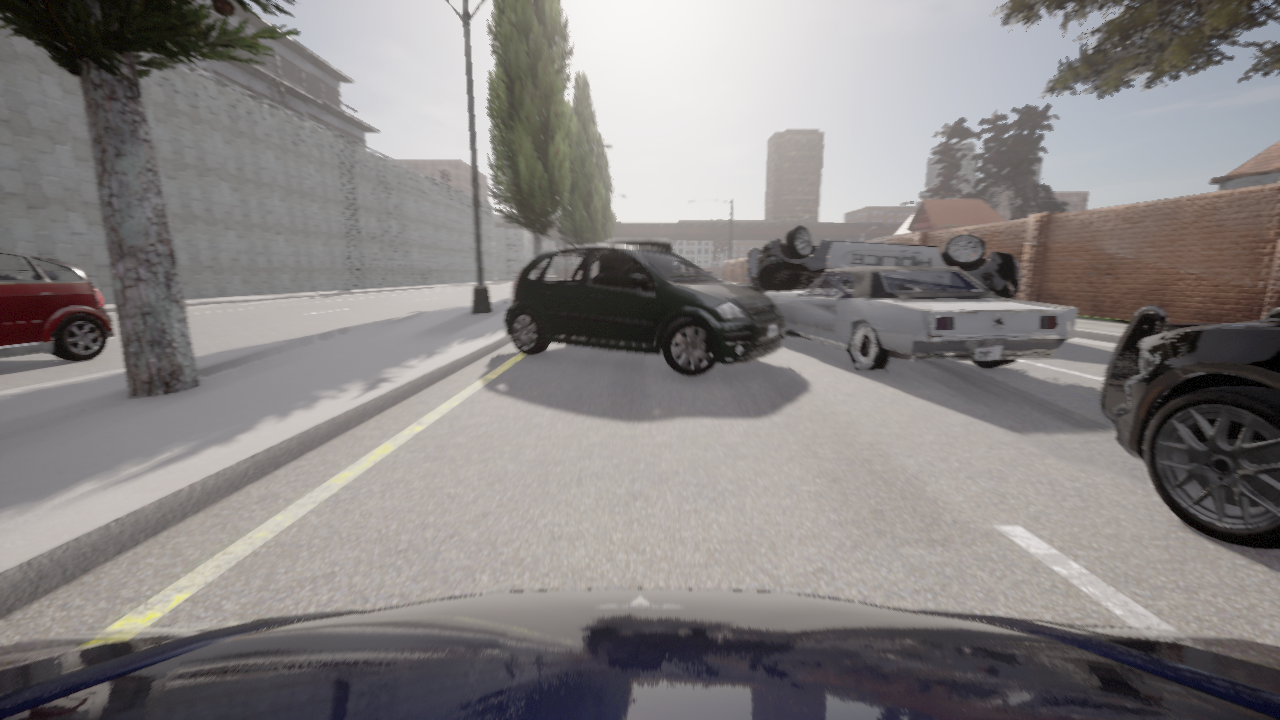cyclist: (0, 588, 1279, 719), (1099, 306, 1279, 548), (503, 244, 784, 376), (764, 266, 1076, 370), (747, 226, 1020, 298), (706, 271, 764, 293), (605, 238, 671, 251)
